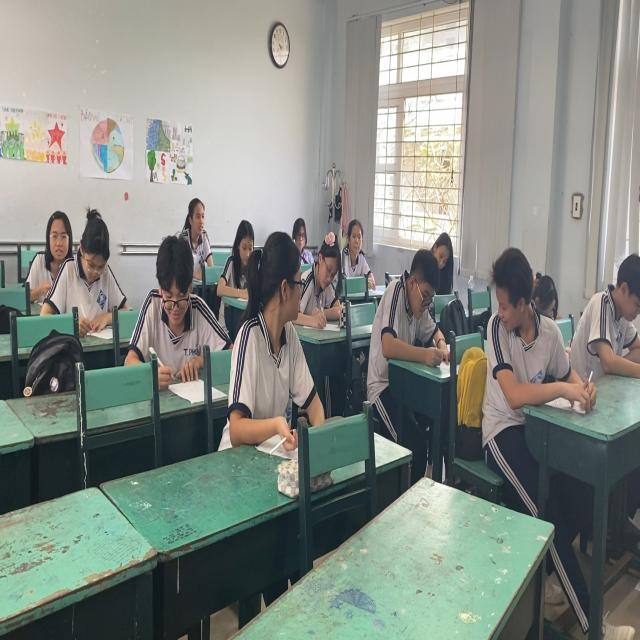cheating: (244, 217, 308, 440)
not_cheating: (472, 254, 561, 426), (136, 236, 215, 378), (573, 264, 640, 396), (381, 251, 446, 367), (64, 201, 125, 319), (299, 237, 344, 334), (33, 195, 75, 268), (180, 192, 213, 260), (223, 216, 252, 292), (338, 220, 363, 282), (429, 236, 454, 284)
